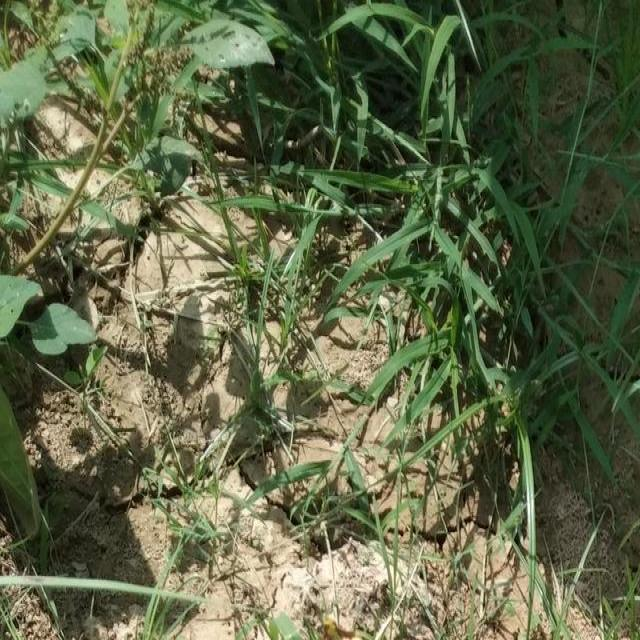weed: (360, 5, 636, 411), (35, 4, 272, 111)
